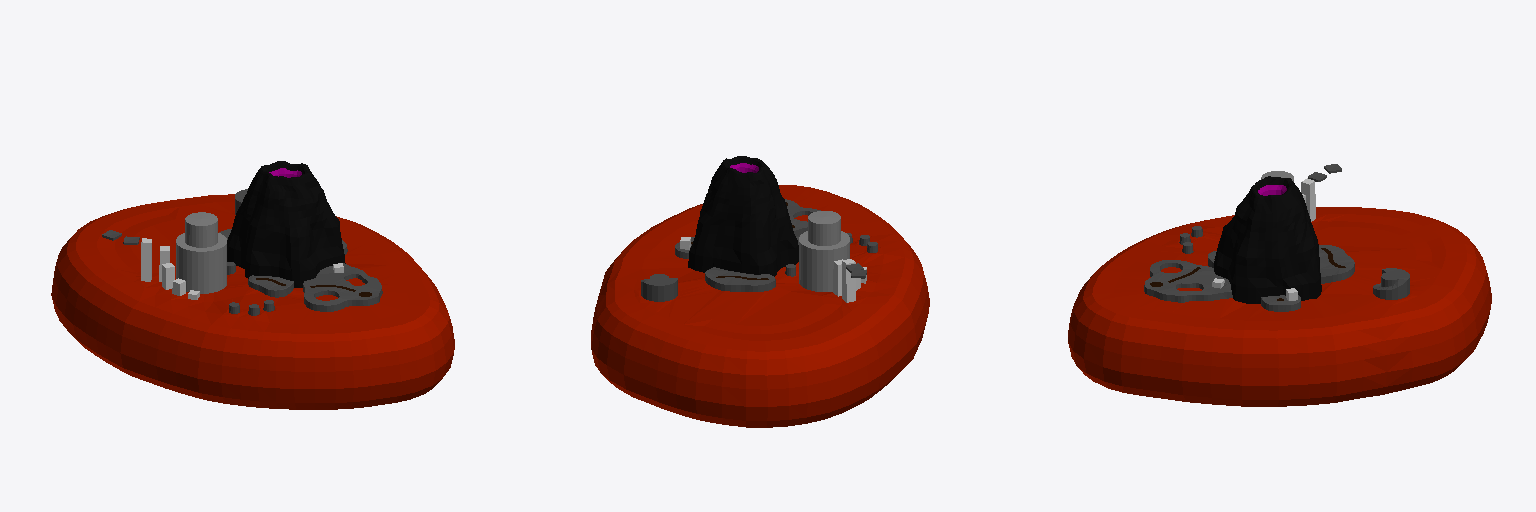
The model's file is FloatyLavaPlanetA.obj.
3 views of the same model, side by side, from view 1: azimuth 30°, elevation 25°; view 2: azimuth 150°, elevation 25°; view 3: azimuth 270°, elevation 25° (orthographic).
Parts seen in each view (by area): view 1: FloatyLavaPlanetA_Collision; view 2: FloatyLavaPlanetA_Collision; view 3: FloatyLavaPlanetA_Collision.
Part boxes in pixels (x1,y1,x2,y2): FloatyLavaPlanetA_Collision: (51,161,454,409); FloatyLavaPlanetA_Collision: (591,156,929,427); FloatyLavaPlanetA_Collision: (1068,164,1491,406).
Size of the model in its own units: 13582 by 7378 by 16860.